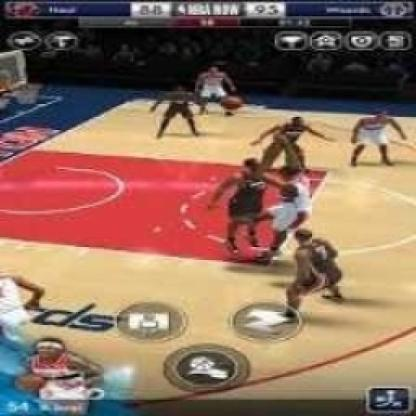basketball: (222, 92, 242, 112)
